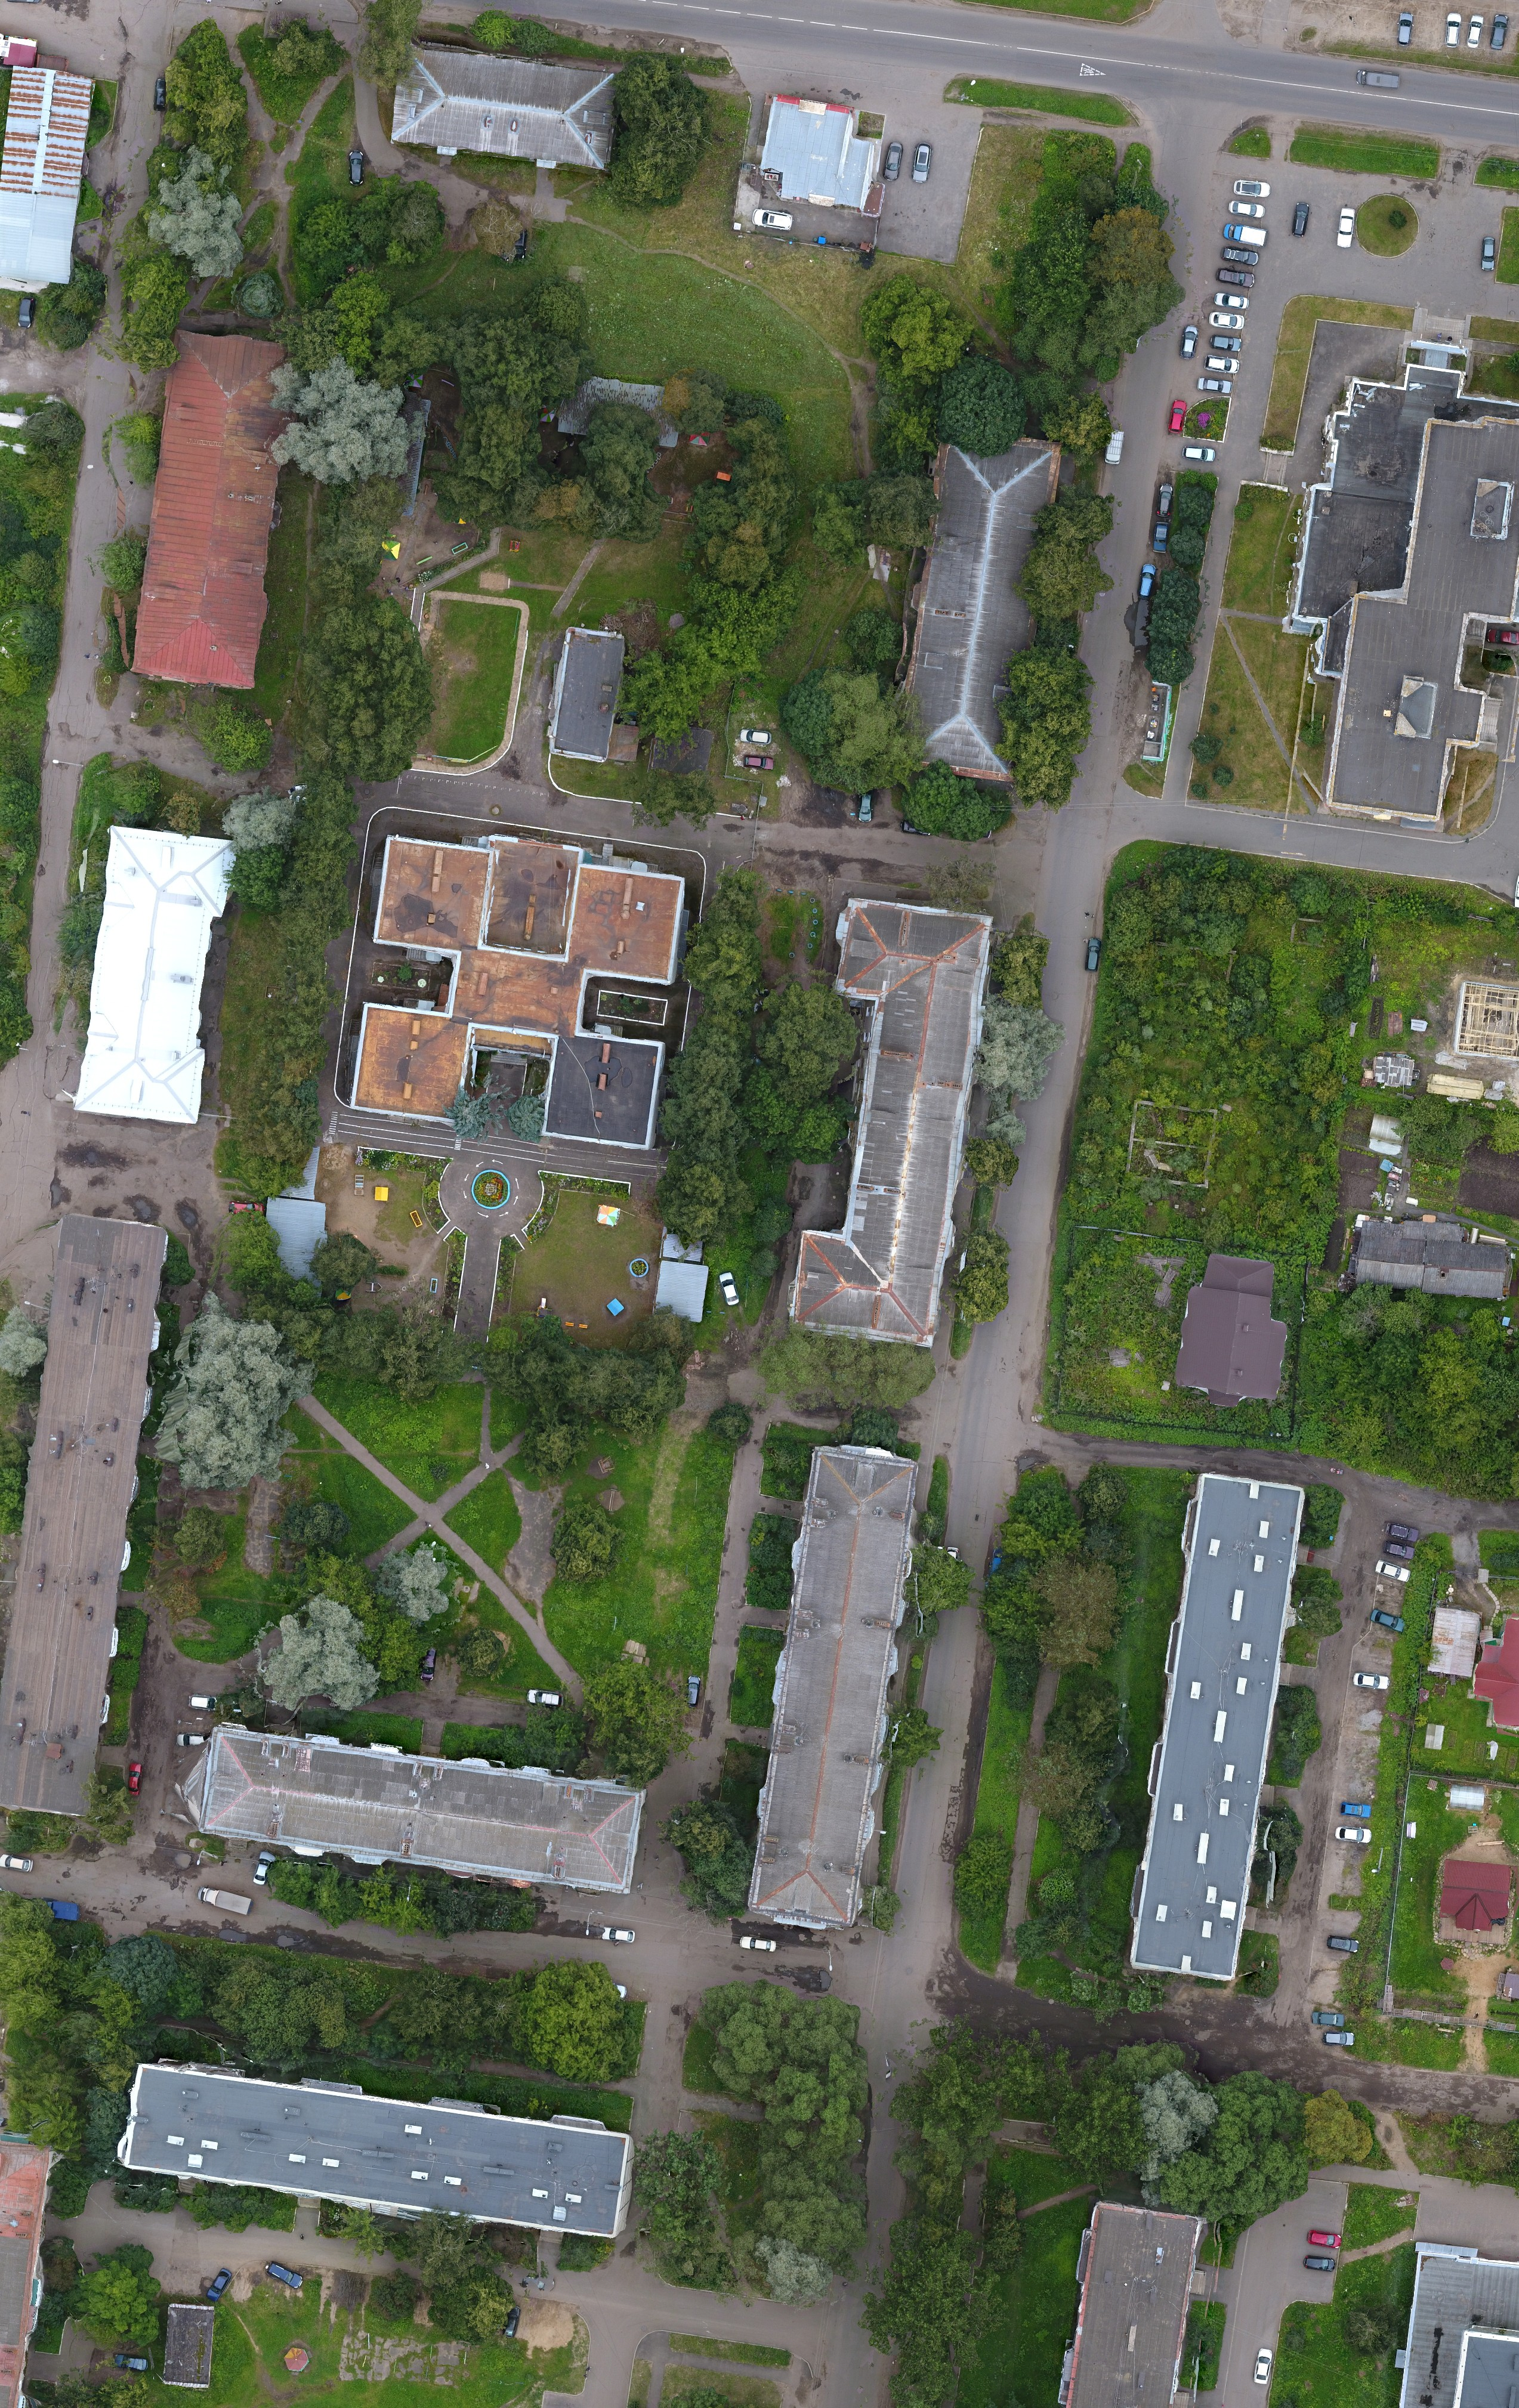build: (345, 820, 703, 1170), (0, 1201, 198, 1826), (1291, 311, 1519, 836), (96, 2051, 648, 2251), (1120, 1451, 1300, 2020), (170, 1707, 658, 1915), (784, 876, 987, 1366), (735, 1437, 931, 1931), (124, 308, 313, 692), (892, 416, 1061, 789), (65, 817, 236, 1128), (383, 30, 658, 196), (1040, 2181, 1207, 2408), (1374, 2170, 1519, 2398), (1162, 1245, 1318, 1416), (0, 47, 107, 296), (742, 93, 886, 245)
